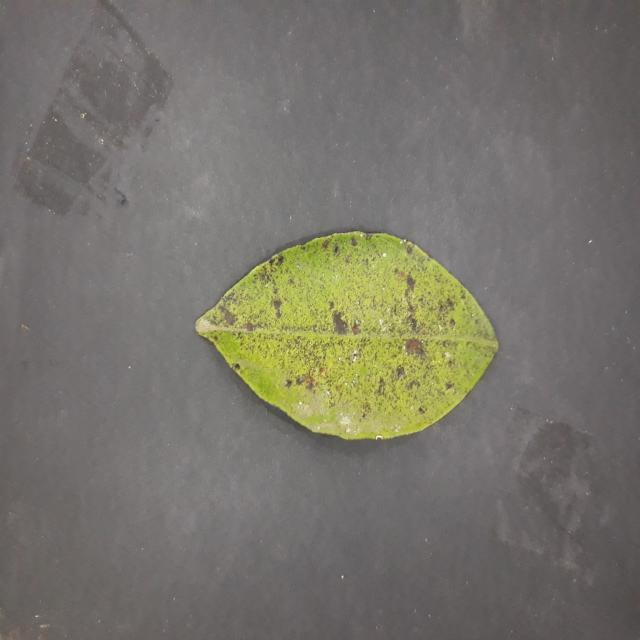greasy_spot: (196, 231, 498, 439)
